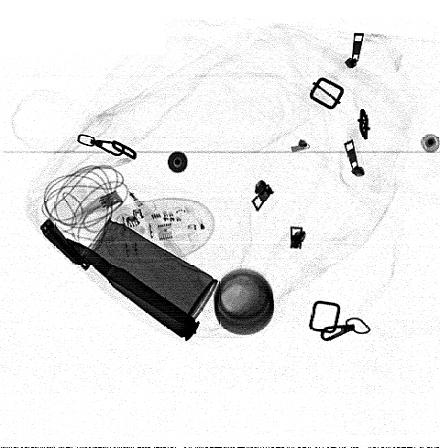Bullet: (63, 236, 200, 342)
